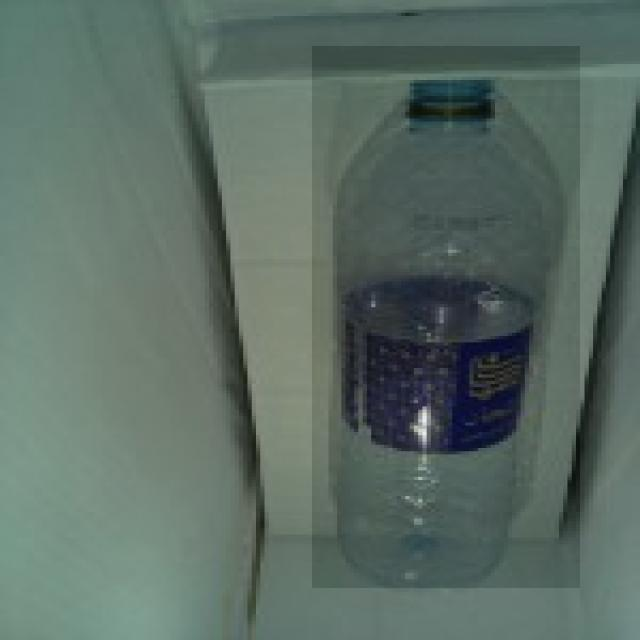bottle: (312, 46, 580, 588)
label: (333, 312, 540, 453)
